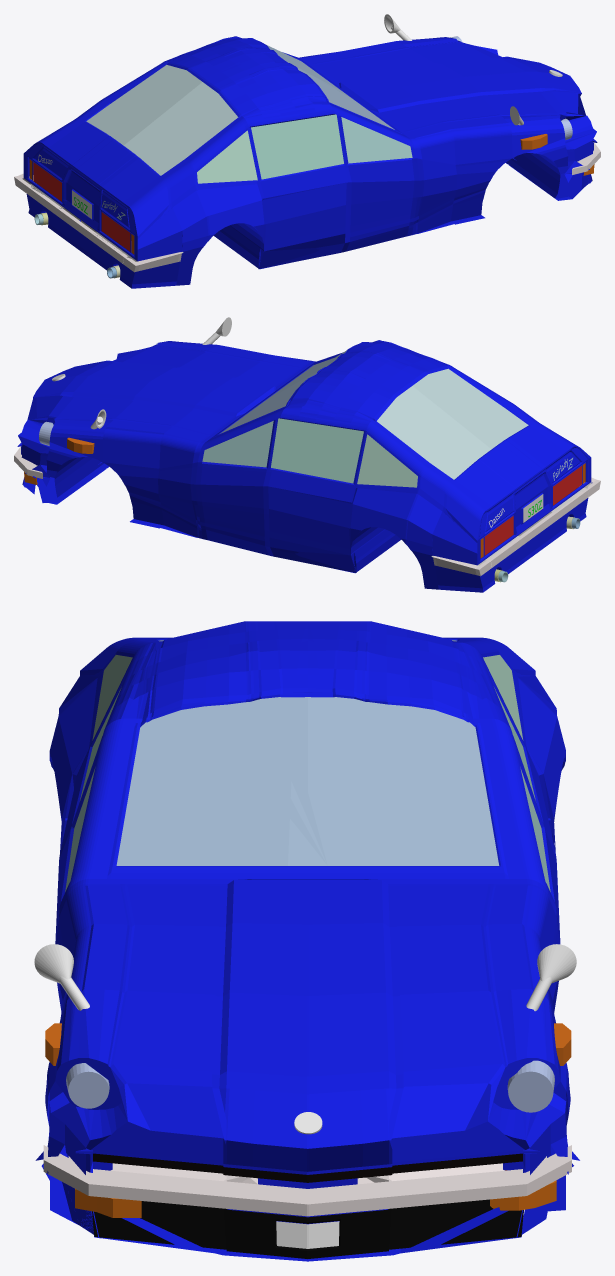
File: S30BODY.fbx
The picture shows the model from 3 angles, top to bottom: view 1: azimuth 30°, elevation 25°; view 2: azimuth 150°, elevation 25°; view 3: azimuth 270°, elevation 25°; orthographic projection. The views are drawn at different scales.
Parts seen in each view (by area): view 1: Cube, Cube.002, Cube.004, Cube.011, Cube.003, Cube.005, Cube.001, Cube.007; view 2: Cube, Cube.002, Cube.004, Cube.003, Cube.011, Cube.005, Cube.001, Cube.007; view 3: Cube, Cube.001, Cube.012, Cube.015, Cube.013, Cube.005, 円柱, Cube.014, 円柱.001, Cube.003, 立方体.003, 球 (+2 smaller).
Part boxes in pixels (x1=…): Cube: x1=23, y1=36, x2=597, y2=288; Cube.002: x1=86, y1=65, x2=238, y2=175; Cube.004: x1=251, y1=114, x2=343, y2=179; Cube.011: x1=14, y1=173, x2=181, y2=272; Cube.003: x1=341, y1=117, x2=412, y2=163; Cube.005: x1=197, y1=130, x2=257, y2=183; Cube.001: x1=267, y1=45, x2=394, y2=129; Cube.007: x1=33, y1=162, x2=130, y2=251; Cube: x1=17, y1=340, x2=592, y2=592; Cube.002: x1=377, y1=368, x2=528, y2=479; Cube.004: x1=271, y1=418, x2=363, y2=483; Cube.003: x1=202, y1=421, x2=273, y2=467; Cube.011: x1=433, y1=477, x2=600, y2=576; Cube.005: x1=357, y1=434, x2=417, y2=487; Cube.001: x1=220, y1=350, x2=346, y2=433; Cube.007: x1=484, y1=466, x2=581, y2=555; Cube: x1=35, y1=621, x2=579, y2=1261; Cube.001: x1=116, y1=697, x2=499, y2=865; Cube.012: x1=43, y1=1145, x2=571, y2=1216; Cube.015: x1=92, y1=1199, x2=523, y2=1258; Cube.013: x1=93, y1=1153, x2=522, y2=1182; Cube.005: x1=92, y1=655, x2=523, y2=740; 円柱: x1=507, y1=1060, x2=554, y2=1112; Cube.014: x1=276, y1=1221, x2=339, y2=1248; 円柱.001: x1=66, y1=1063, x2=109, y2=1108; Cube.003: x1=65, y1=767, x2=550, y2=891; 立方体.003: x1=75, y1=1189, x2=141, y2=1217; 球: x1=537, y1=944, x2=576, y2=982.
Bounding box in the file's own units: 281 × 85.96 × 134.
